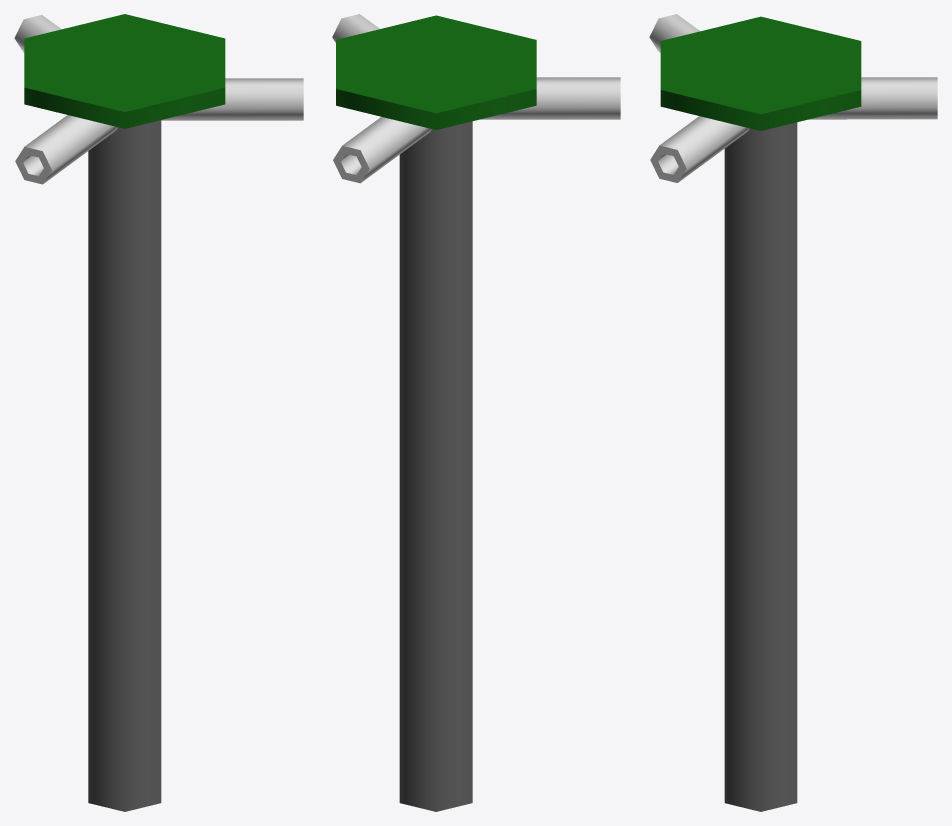
Rendered from Dest_PoisonFactory_Sprinkler.FBX.
3 views of the same model, side by side, from view 1: azimuth 30°, elevation 25°; view 2: azimuth 150°, elevation 25°; view 3: azimuth 270°, elevation 25° (orthographic).
Visible parts, largest first — view 1: Cylinder004; view 2: Cylinder004; view 3: Cylinder004.
Boxes of the visible parts, left/top/right/bottom form: Cylinder004: left=14, top=14, right=303, bottom=811; Cylinder004: left=332, top=14, right=620, bottom=811; Cylinder004: left=649, top=14, right=937, bottom=811.
Bounding box in the file's own units: 8.43 × 20.39 × 7.31.
